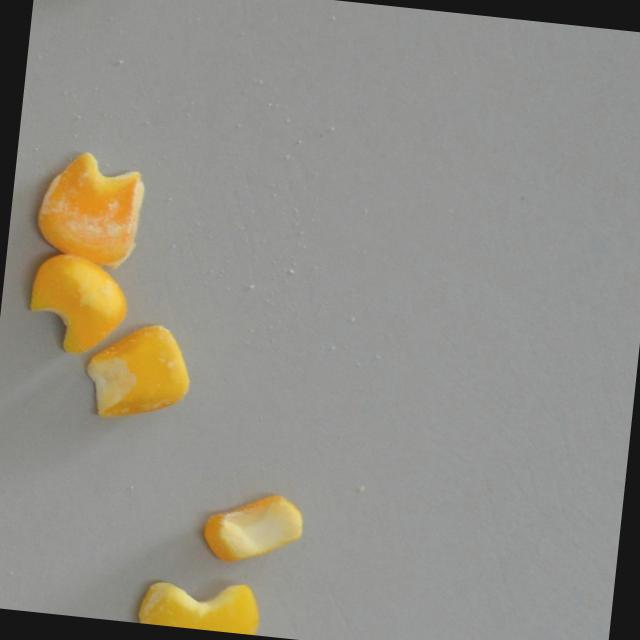no_canjicado: (21, 251, 134, 359), (201, 489, 307, 571)
pelicula: (31, 148, 147, 270), (79, 318, 194, 428), (136, 574, 261, 635)
